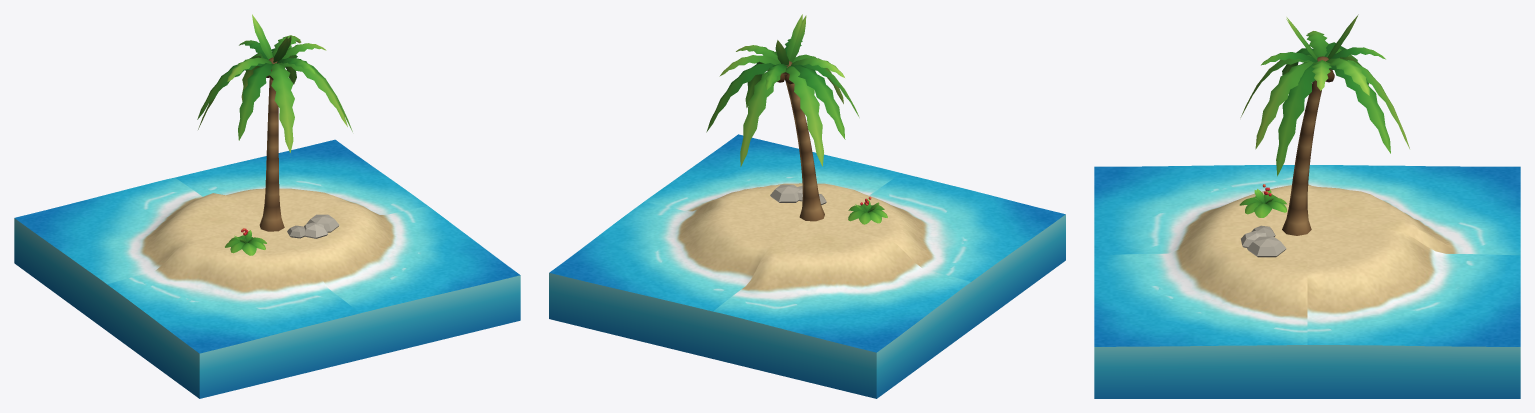
File: Islet_Palm.obj
3 views of the same model, side by side, from view 1: azimuth 30°, elevation 25°; view 2: azimuth 150°, elevation 25°; view 3: azimuth 270°, elevation 25° (orthographic). The views are drawn at different scales.
Visible parts, largest first — view 1: Islet_Palm_Islet_Palm_Terrain, Islet_Palm_Palette; view 2: Islet_Palm_Islet_Palm_Terrain, Islet_Palm_Palette; view 3: Islet_Palm_Islet_Palm_Terrain, Islet_Palm_Palette.
Part boxes in pixels (x1=…): Islet_Palm_Islet_Palm_Terrain: x1=15, y1=139, x2=520, y2=353; Islet_Palm_Palette: x1=14, y1=14, x2=520, y2=398; Islet_Palm_Islet_Palm_Terrain: x1=549, y1=134, x2=1065, y2=352; Islet_Palm_Palette: x1=549, y1=14, x2=1065, y2=398; Islet_Palm_Islet_Palm_Terrain: x1=1094, y1=165, x2=1520, y2=346; Islet_Palm_Palette: x1=1094, y1=14, x2=1520, y2=398.
Size of the model in its own units: 4 by 3.09 by 4.
Materials: 2 (2 with a texture image).
